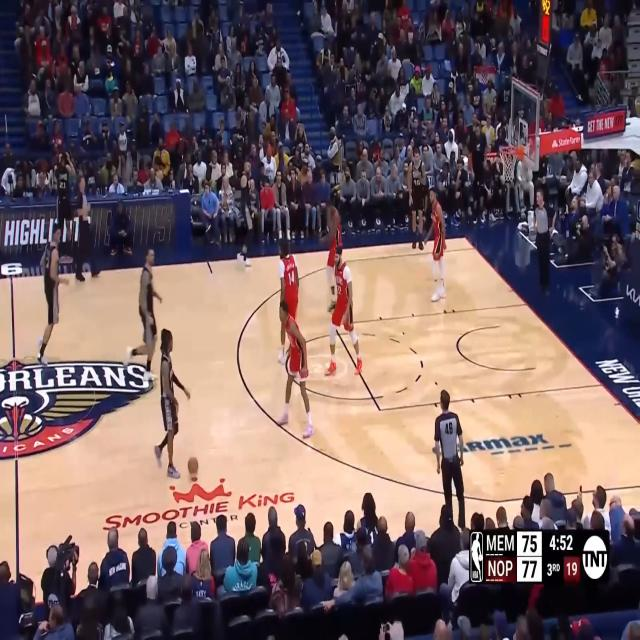Ball: (186, 454, 200, 478)
Hoop: (498, 142, 520, 181)
Period: (546, 561, 561, 580)
Player: (154, 325, 190, 482), (278, 298, 316, 442), (122, 244, 162, 380), (323, 242, 363, 377), (35, 222, 70, 366), (233, 157, 261, 270), (276, 238, 300, 368), (423, 184, 448, 304), (318, 197, 344, 312), (407, 146, 429, 255)
Ref: (434, 387, 466, 530), (72, 169, 104, 283), (531, 187, 554, 294)
Shot Clock: (566, 559, 579, 579)
Team Name: (488, 556, 514, 580), (486, 534, 516, 554)
Team Points: (521, 532, 539, 555), (521, 557, 538, 580)
Time Remaining: (548, 531, 576, 554)
